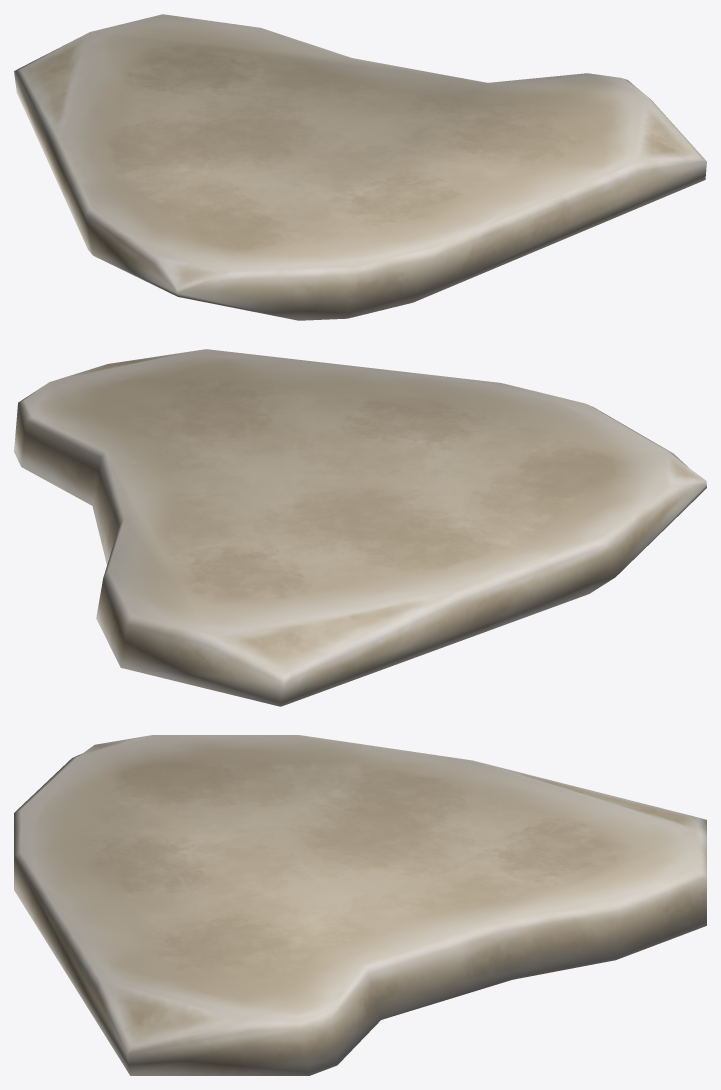
Rendered from Rock_flat_01.glb.
3 views of the same model, one above another, from view 1: azimuth 30°, elevation 25°; view 2: azimuth 150°, elevation 25°; view 3: azimuth 270°, elevation 25° (orthographic). The views are drawn at different scales.
Parts seen in each view (by area): view 1: Cube; view 2: Cube; view 3: Cube.
Part boxes in pixels (x1,y1,x2,y2): Cube: (14,14,706,320); Cube: (14,349,706,706); Cube: (14,735,706,1075).
Bounding box in the file's own units: 7.6 × 0.6283 × 7.6.
1 material, 1 textured.
